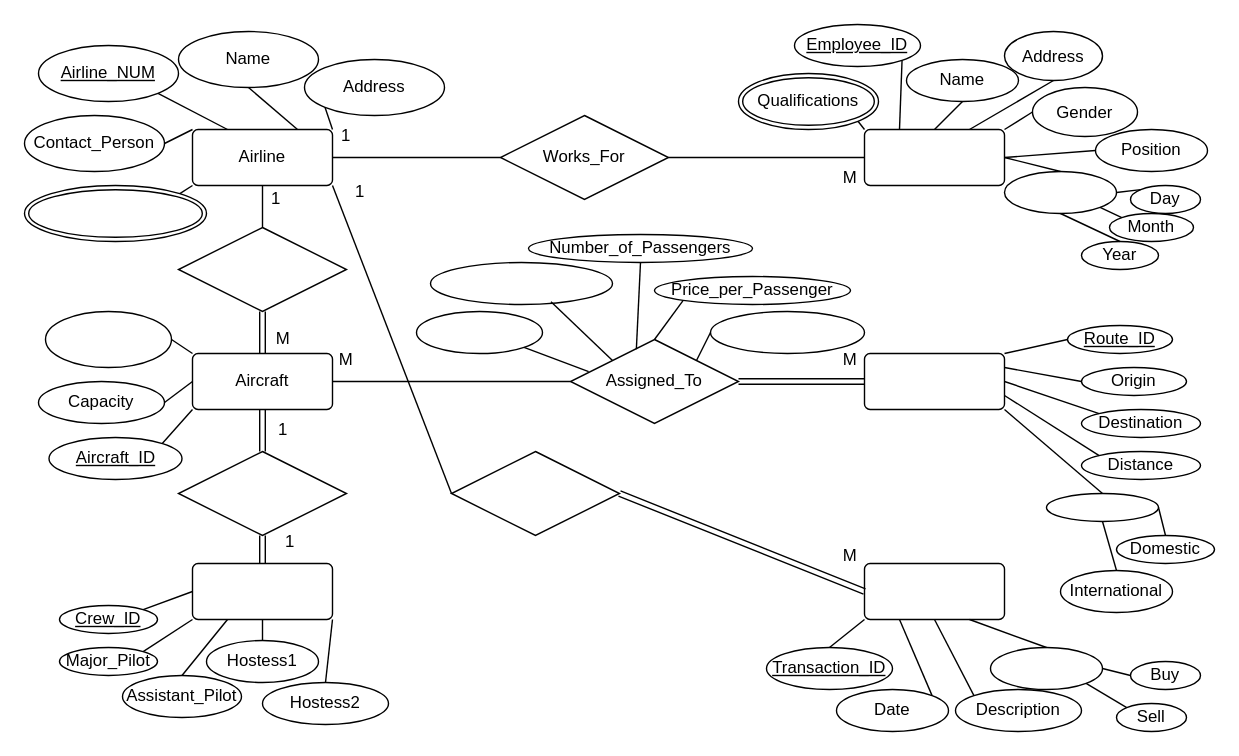
The diagram is 1239 pixels wide and 756 high, and some of its shapes have lost their labels. Here are the shapes that lost their labels. From the top down, the box of each, then its label:
(863, 128, 1004, 186): Employee
(1003, 170, 1116, 214): Birth_Date
(23, 184, 206, 241): Telephone_Number
(177, 226, 346, 312): Own
(429, 261, 612, 304): Departure_DateTime
(44, 310, 172, 368): Model
(415, 310, 542, 354): Travel_Time
(709, 310, 864, 354): Arrival_DateTime
(863, 352, 1004, 410): Route
(177, 450, 346, 536): Assigned_Crew
(450, 450, 620, 536): Records
(1045, 492, 1158, 522): Classification
(191, 562, 332, 620): Crew
(863, 562, 1004, 620): Transaction
(989, 646, 1102, 690): Amount
